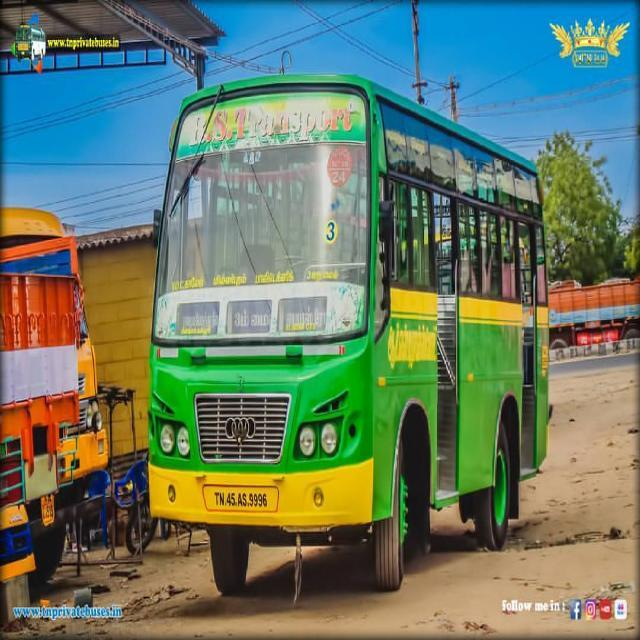Bus: (141, 69, 556, 597)
